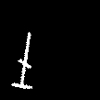double_crochet: (12, 33, 31, 88)
